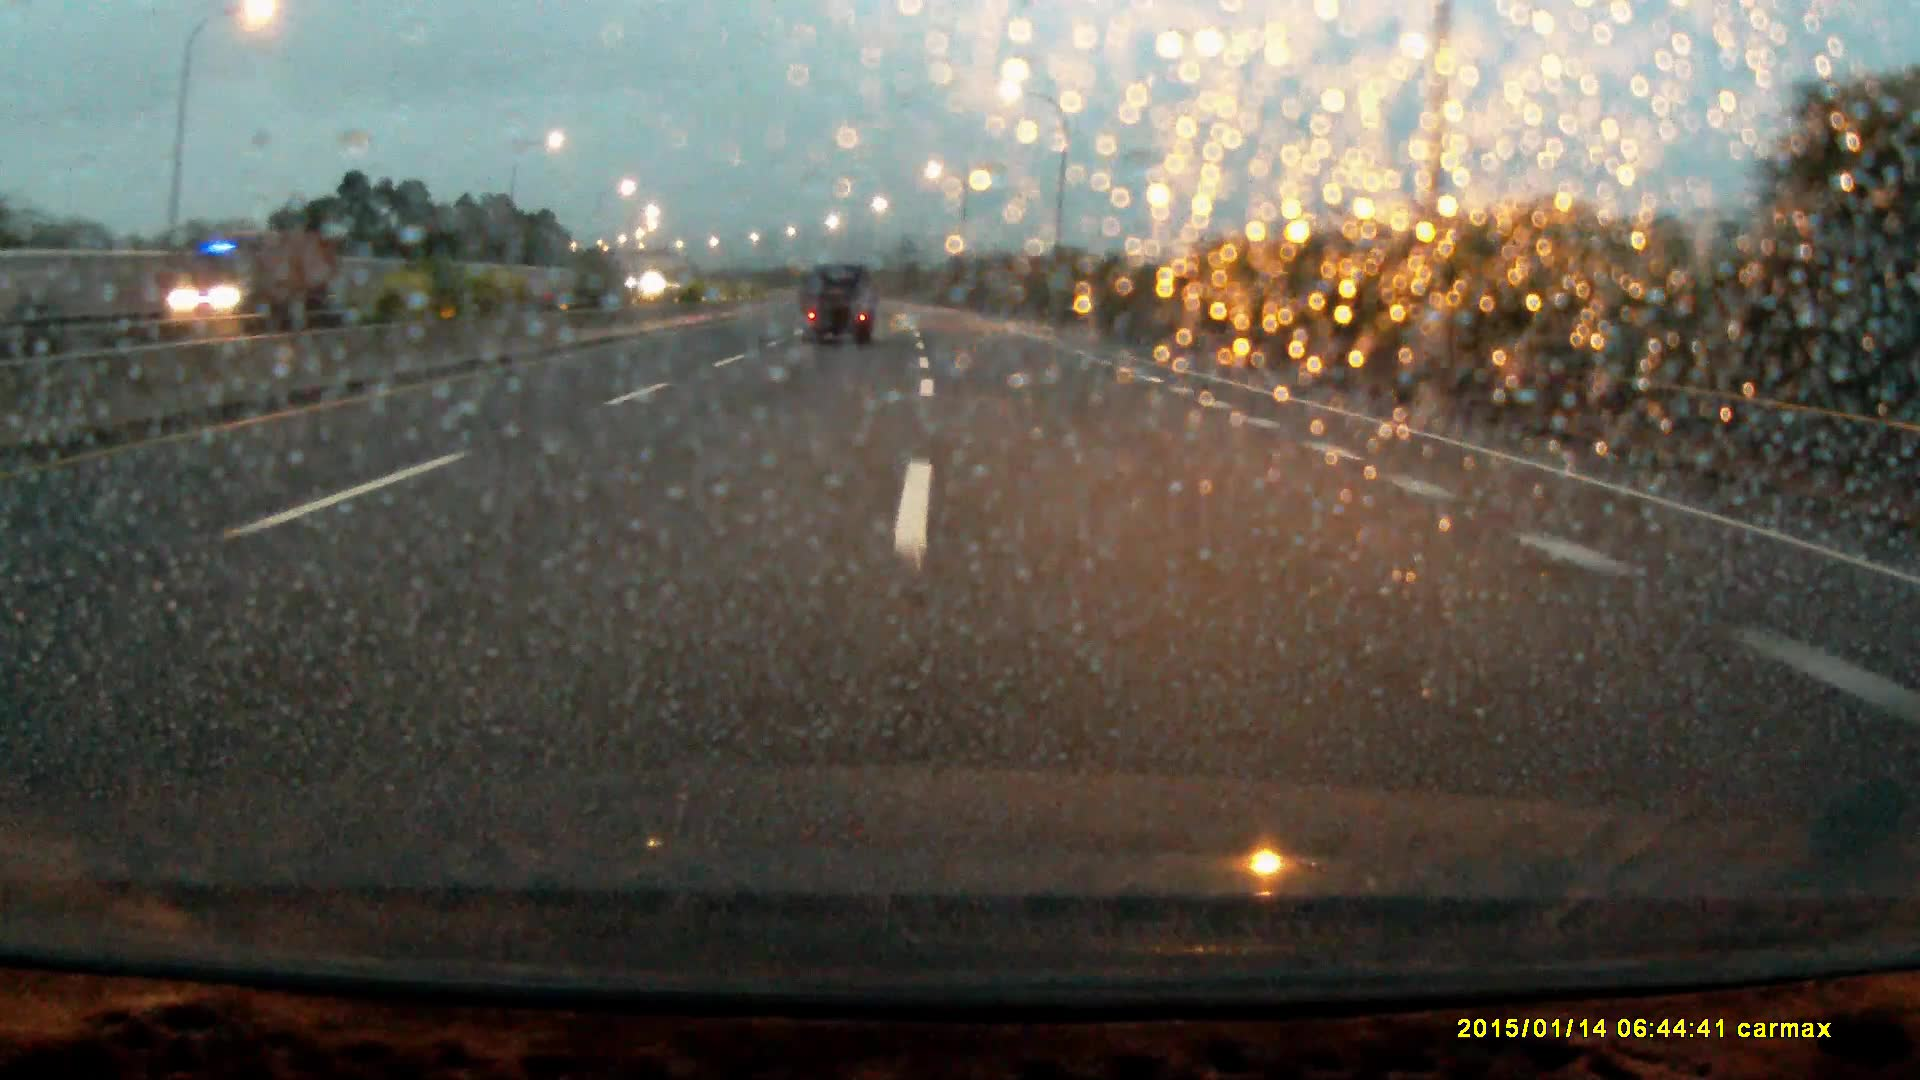vehicle: (144, 233, 330, 324), (799, 269, 877, 353)
